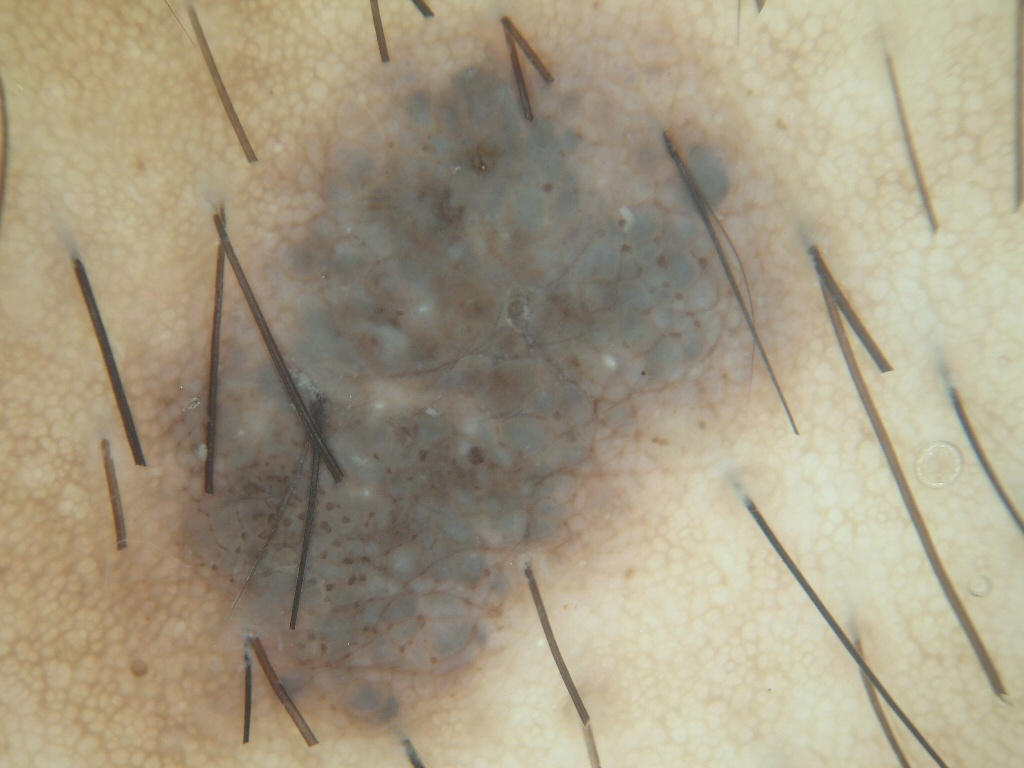Detected Lesion: (141, 38, 814, 743)
